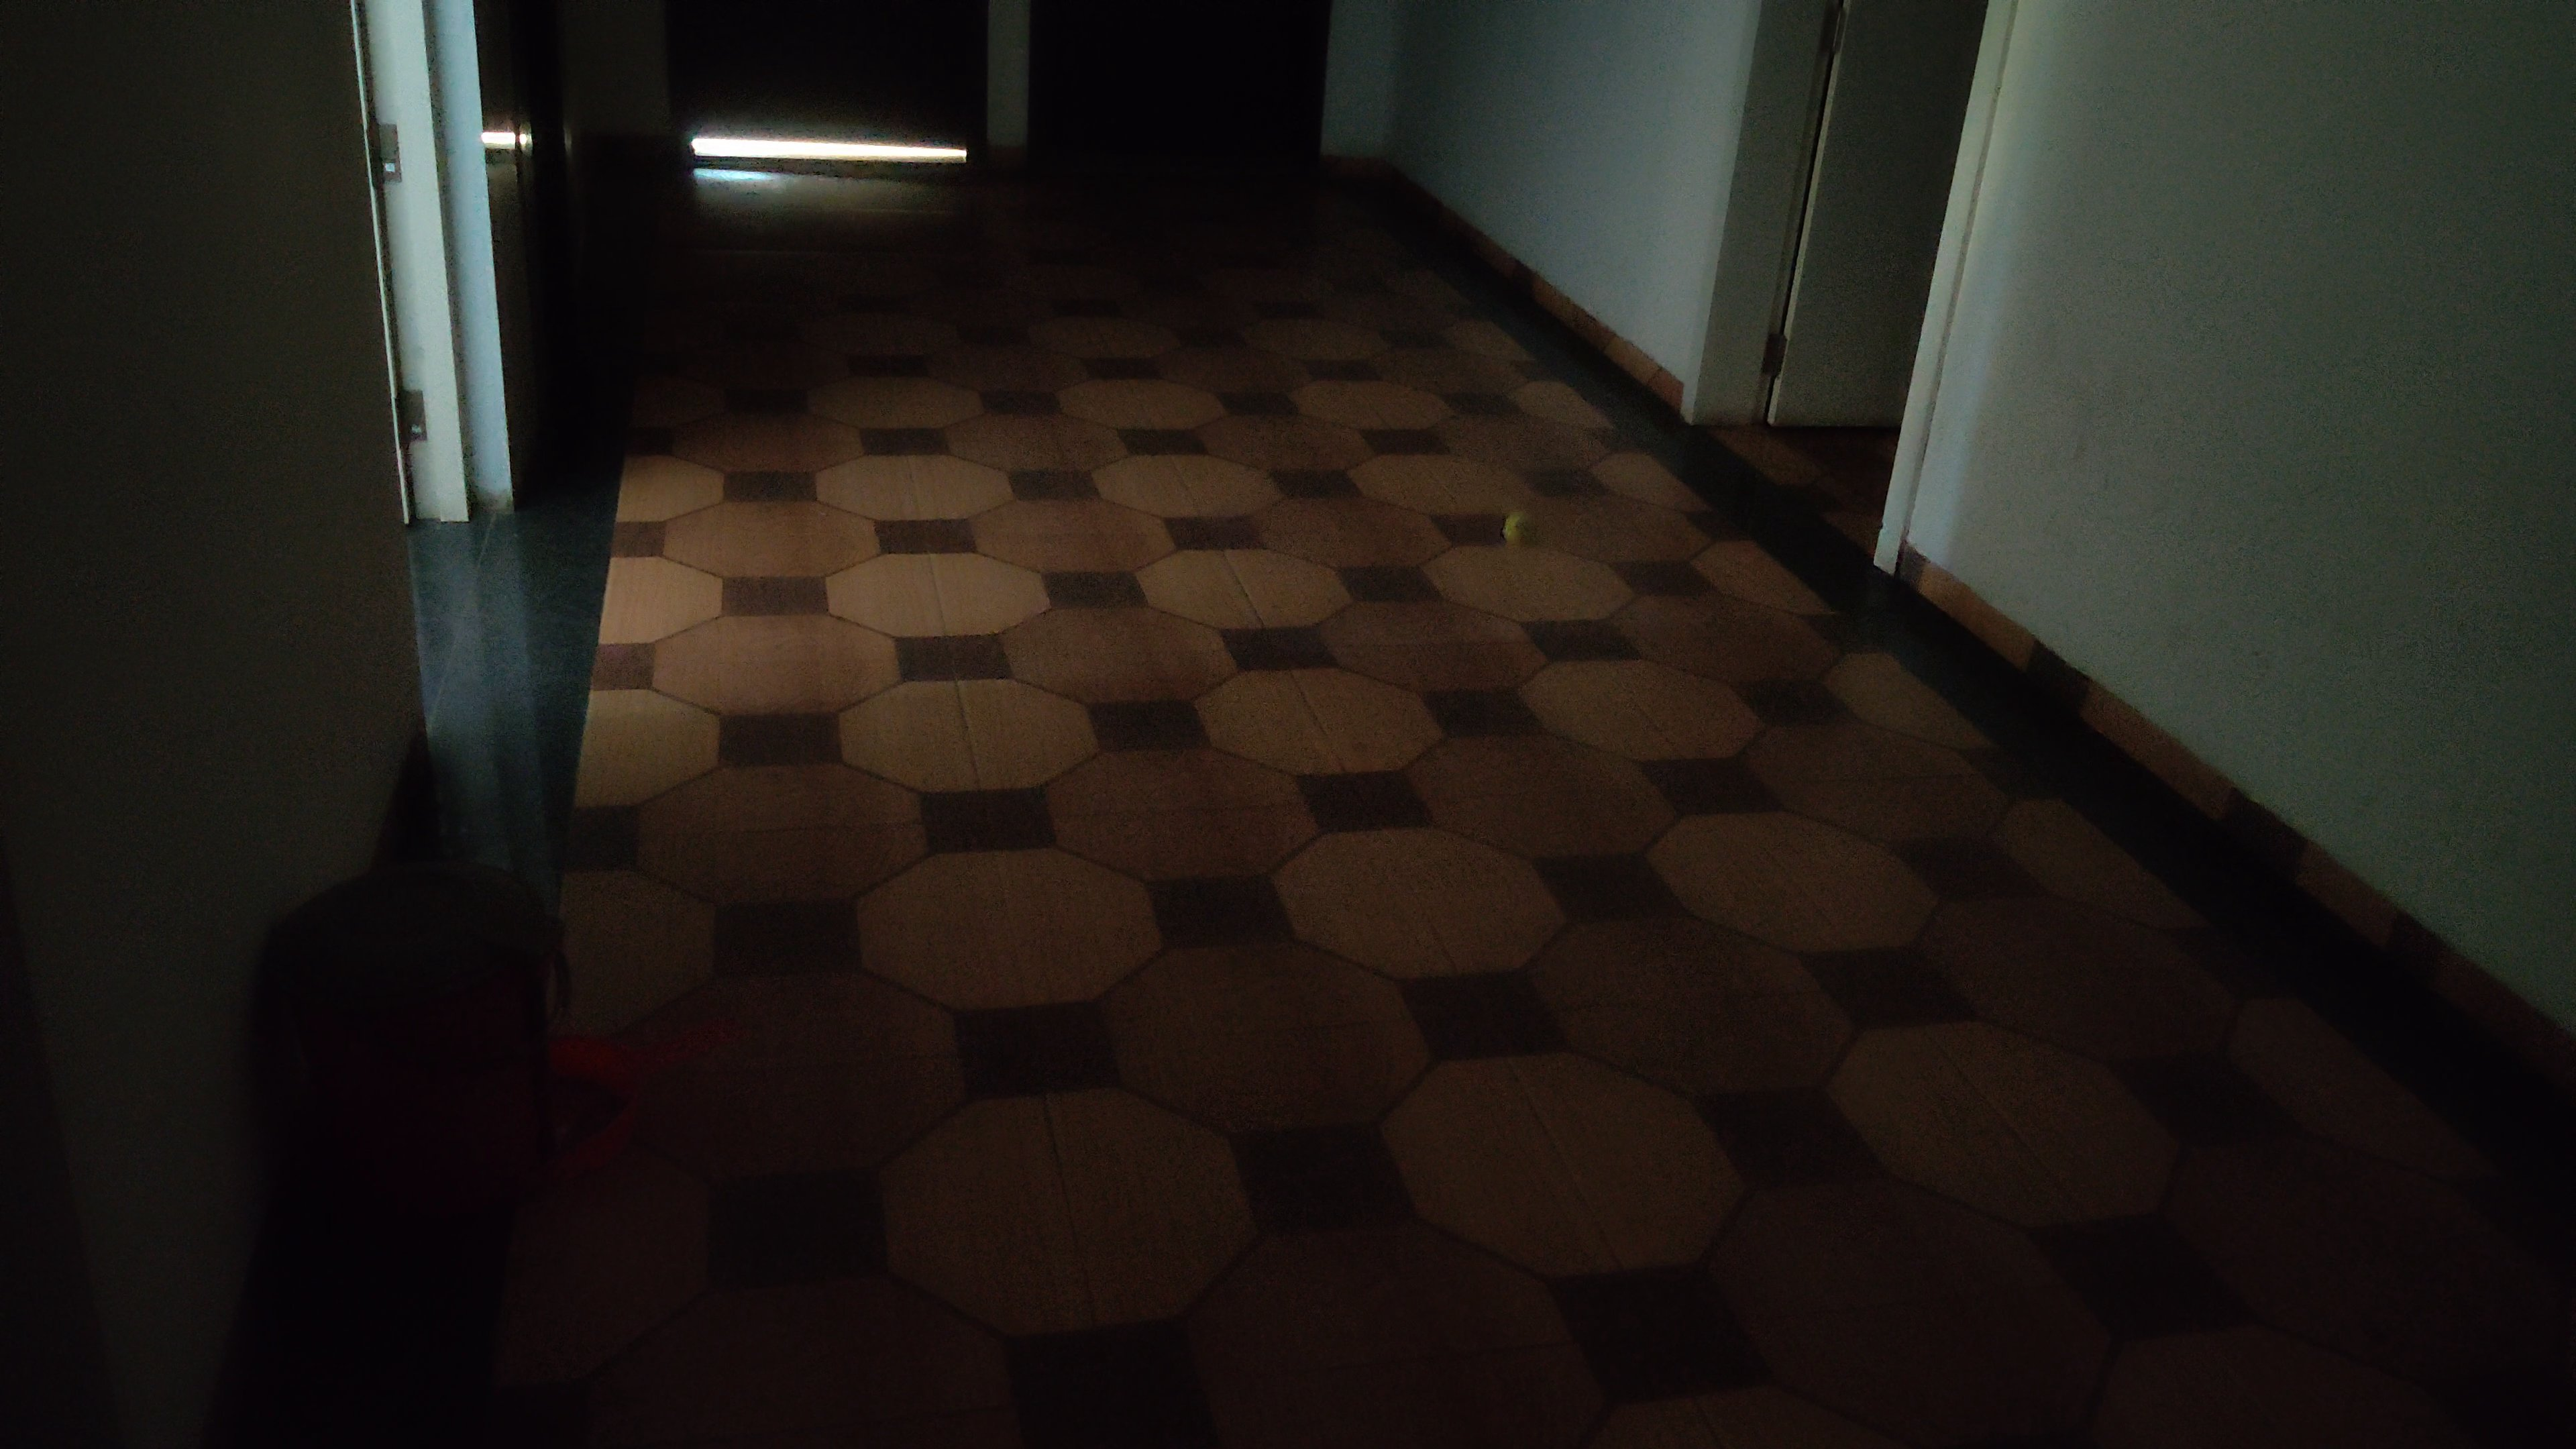Tennis-Ball: (1502, 511, 1539, 545)
